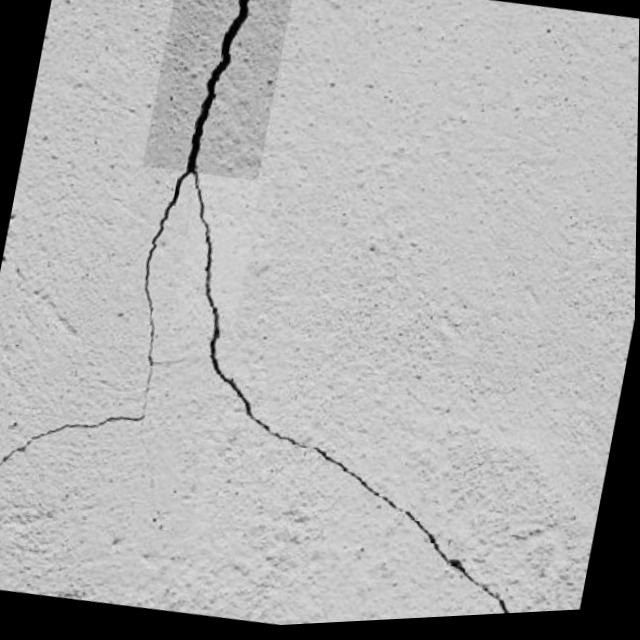Crack: (105, 0, 324, 413)
